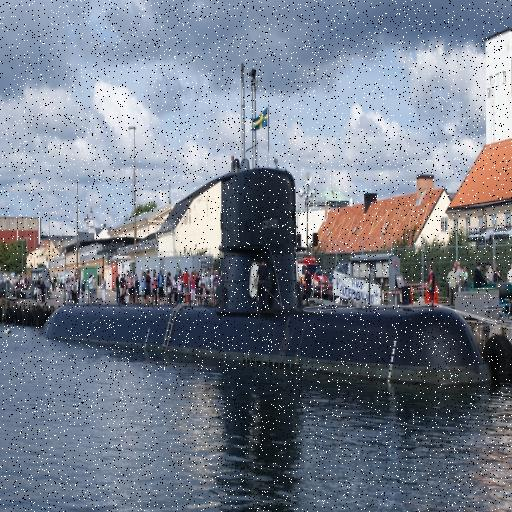submarine: (41, 182, 501, 385)
